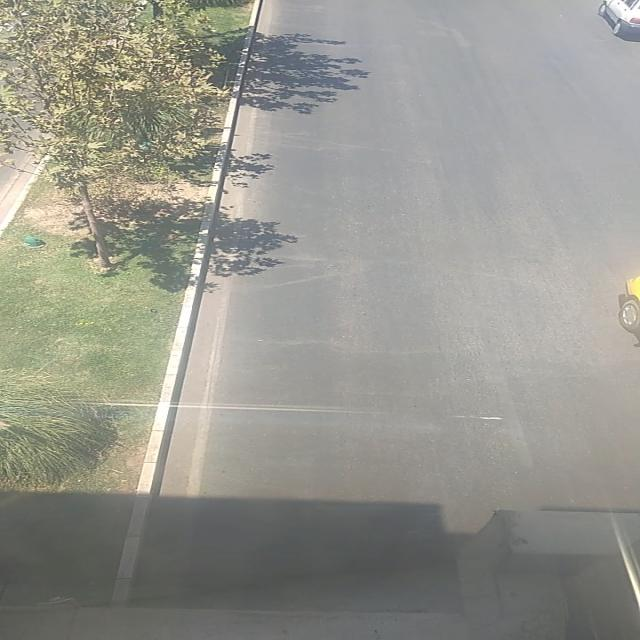car: (599, 1, 640, 38)
